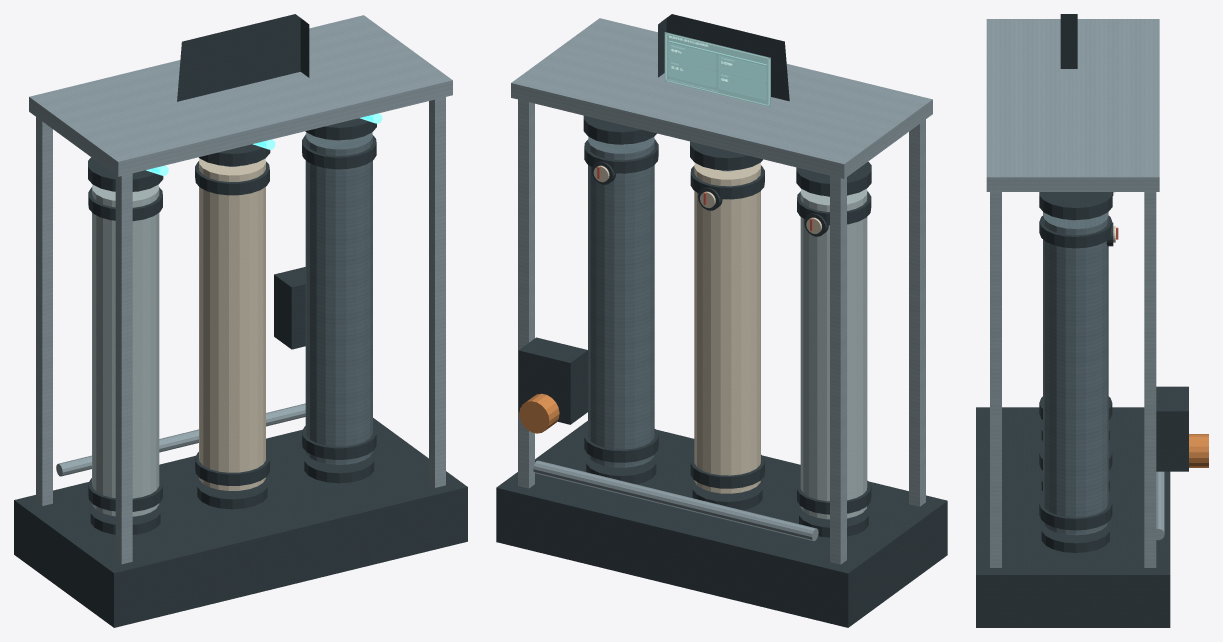
The model's file is water_reclaimer.glb.
The picture shows the model from 3 angles, left to right: view 1: azimuth 30°, elevation 25°; view 2: azimuth 150°, elevation 25°; view 3: azimuth 270°, elevation 25°; orthographic projection. The views are drawn at different scales.
Visible parts, largest first — view 1: static__alloy, Skid_Base__graphite, Filter_Towers__trim, Filter_Towers__cream, Filter_Towers__tank, Filter_Towers__graphite, Display__graphite, Pump__graphite, Return_Manifold__alloy; view 2: static__alloy, Skid_Base__graphite, Filter_Towers__cream, Filter_Towers__trim, Filter_Towers__tank, Filter_Towers__graphite, Display__ui_waterrec, Pump__graphite, Return_Manifold__alloy, Display__graphite, Pump__amber, Gauges__graphite; view 3: static__alloy, Skid_Base__graphite, Filter_Towers__trim, Filter_Towers__graphite, Pump__graphite, Display__graphite, Pump__amber, Return_Manifold__alloy.
Part boxes in pixels (bbox=[...]): static__alloy: bbox=[29, 15, 452, 564]; Skid_Base__graphite: bbox=[14, 418, 467, 627]; Filter_Towers__trim: bbox=[305, 132, 372, 464]; Filter_Towers__cream: bbox=[199, 158, 265, 490]; Filter_Towers__tank: bbox=[92, 184, 159, 516]; Filter_Towers__graphite: bbox=[88, 118, 376, 534]; Display__graphite: bbox=[177, 14, 309, 101]; Pump__graphite: bbox=[274, 267, 305, 349]; Return_Manifold__alloy: bbox=[56, 403, 305, 476]; static__alloy: bbox=[511, 18, 932, 564]; Skid_Base__graphite: bbox=[496, 421, 947, 627]; Filter_Towers__cream: bbox=[694, 163, 760, 493]; Filter_Towers__trim: bbox=[588, 137, 654, 467]; Filter_Towers__tank: bbox=[800, 189, 867, 519]; Filter_Towers__graphite: bbox=[583, 115, 871, 537]; Display__ui_waterrec: bbox=[664, 32, 770, 106]; Pump__graphite: bbox=[518, 337, 588, 424]; Return_Manifold__alloy: bbox=[533, 460, 818, 540]; Display__graphite: bbox=[658, 14, 789, 101]; Pump__amber: bbox=[519, 393, 559, 433]; Gauges__graphite: bbox=[591, 161, 828, 236]; static__alloy: bbox=[986, 19, 1159, 567]; Skid_Base__graphite: bbox=[976, 407, 1170, 627]; Filter_Towers__trim: bbox=[1043, 212, 1108, 535]; Filter_Towers__graphite: bbox=[1039, 192, 1112, 552]; Pump__graphite: bbox=[1156, 386, 1188, 471]; Display__graphite: bbox=[1060, 14, 1077, 68]; Pump__amber: bbox=[1189, 434, 1208, 467]; Return_Manifold__alloy: bbox=[1156, 471, 1164, 540].
Size of the model in its own units: 1.49 by 2.11 by 0.875.
11 materials, 11 textured.
